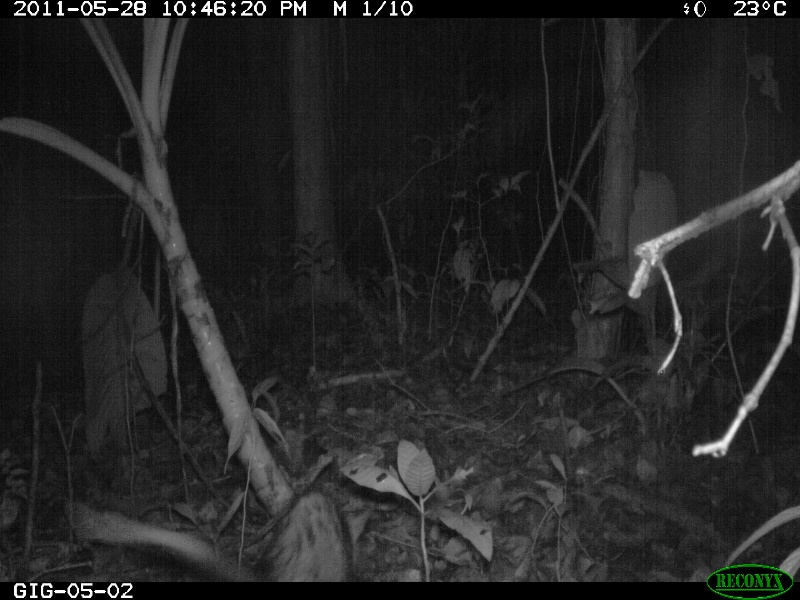opossum: (67, 487, 359, 578)
